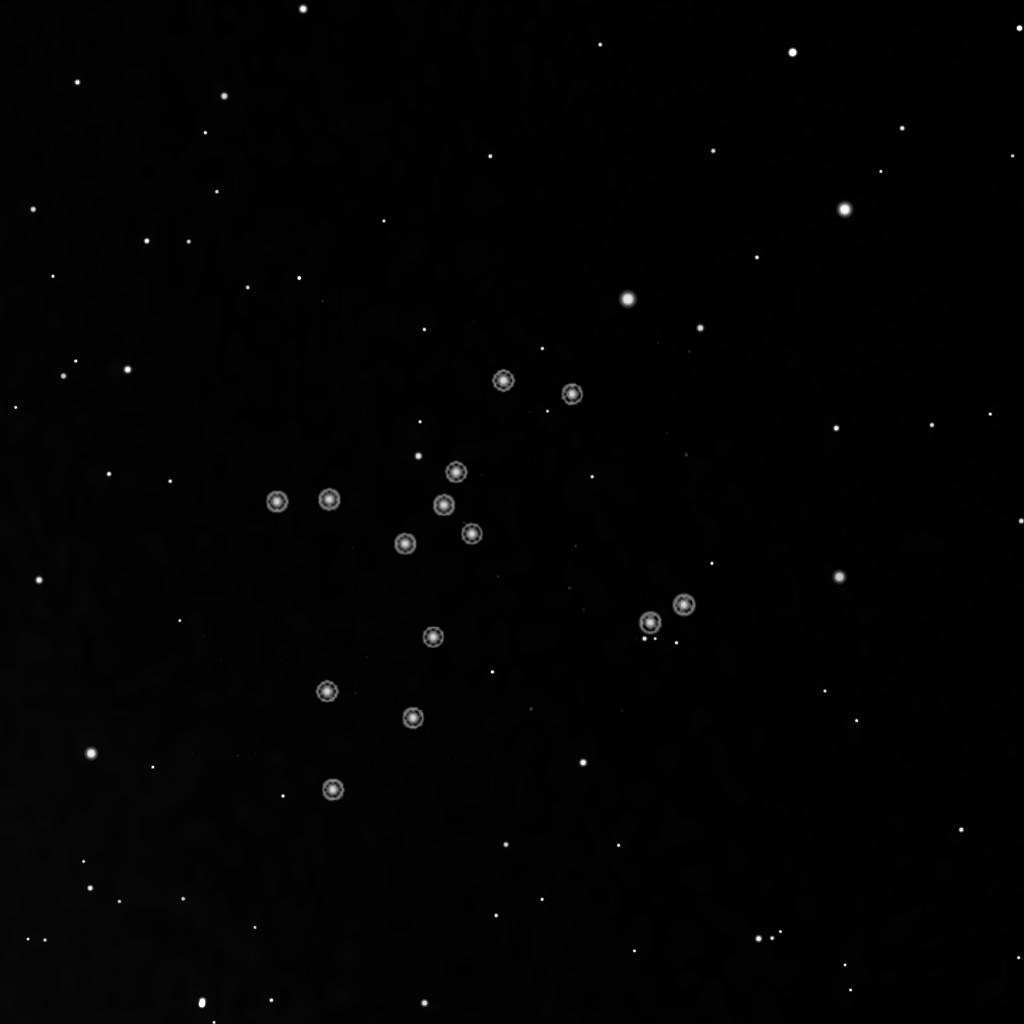canis_major: (380, 364, 587, 566)
